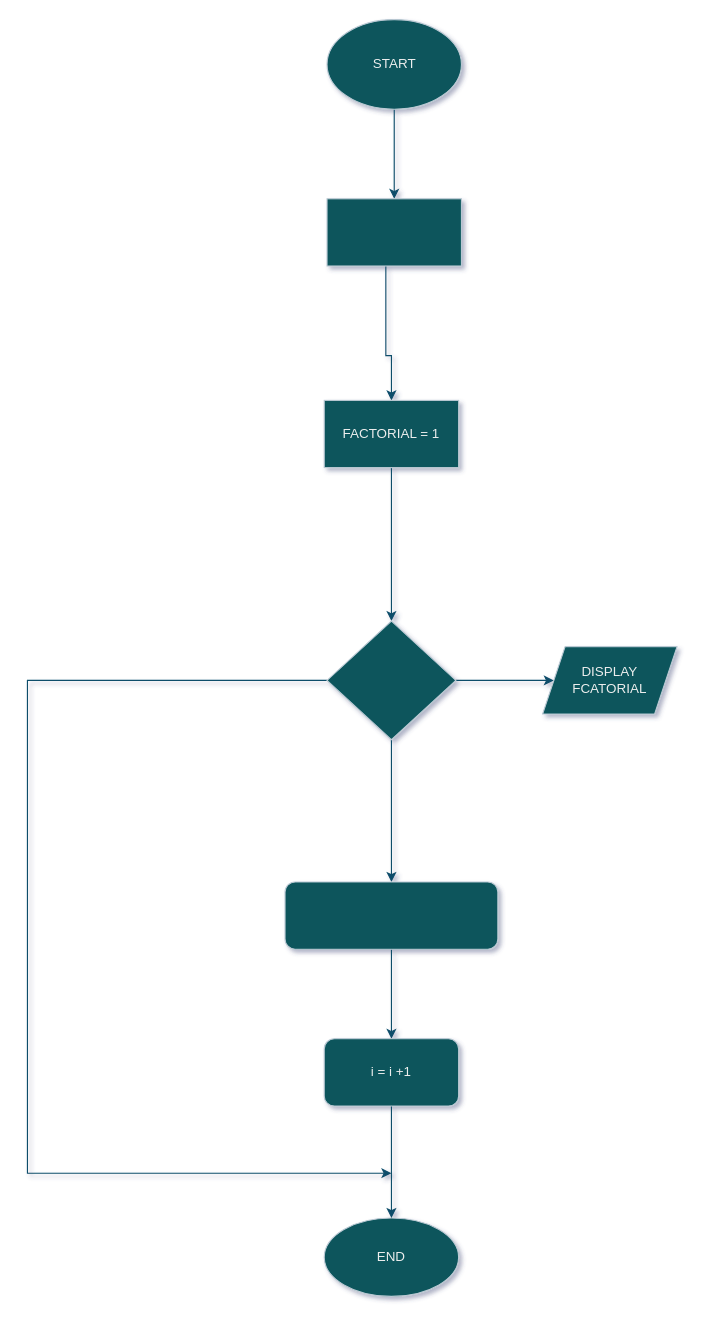
This 703x1323 diagram has some shape labels left out. Here are the shapes that lost their labels. From the top down, the centre of each, then its label:
the point at 393,232: INPUT NUMBER
the point at 391,680: i<=NUMBER?
the point at 391,915: FACTORIAL = FACTORIAL x i
